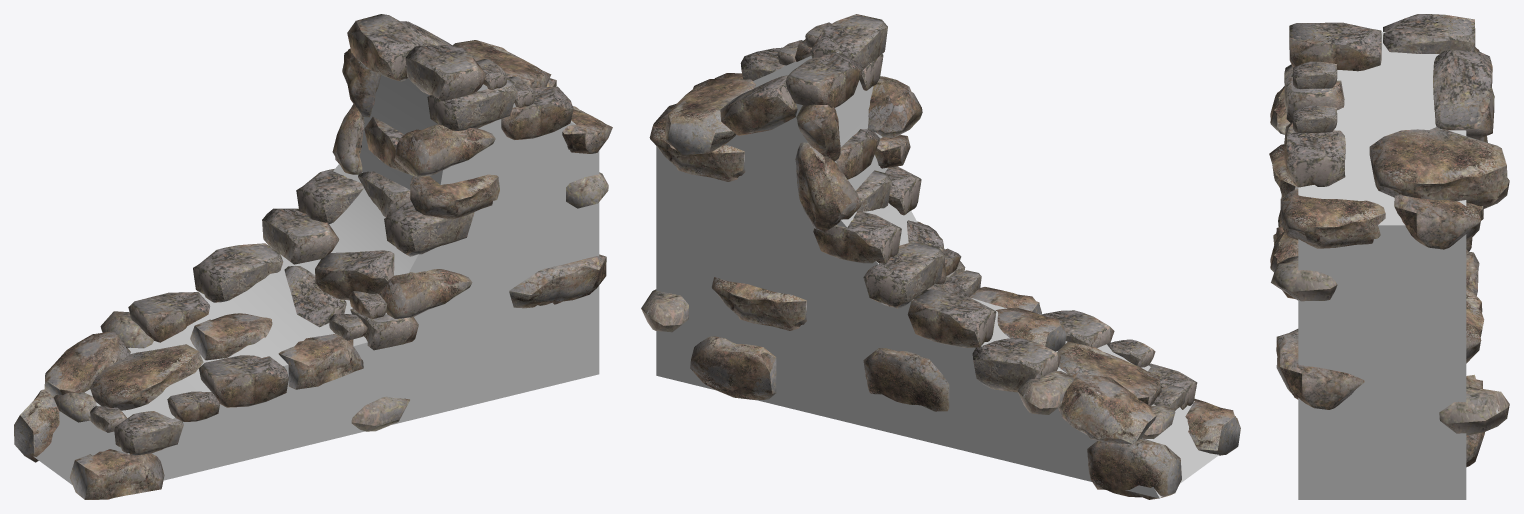
Rendered from SM_Wall04.FBX.
3 views of the same model, side by side, from view 1: azimuth 30°, elevation 25°; view 2: azimuth 150°, elevation 25°; view 3: azimuth 270°, elevation 25° (orthographic). The views are drawn at different scales.
Parts seen in each view (by area): view 1: SM_Wall04; view 2: SM_Wall04; view 3: SM_Wall04.
Boxes of the visible parts, left/top/right/bottom form: SM_Wall04: left=14, top=14, right=612, bottom=499; SM_Wall04: left=641, top=14, right=1240, bottom=499; SM_Wall04: left=1269, top=14, right=1509, bottom=499.
Size of the model in its own units: 625 by 215 by 395.
